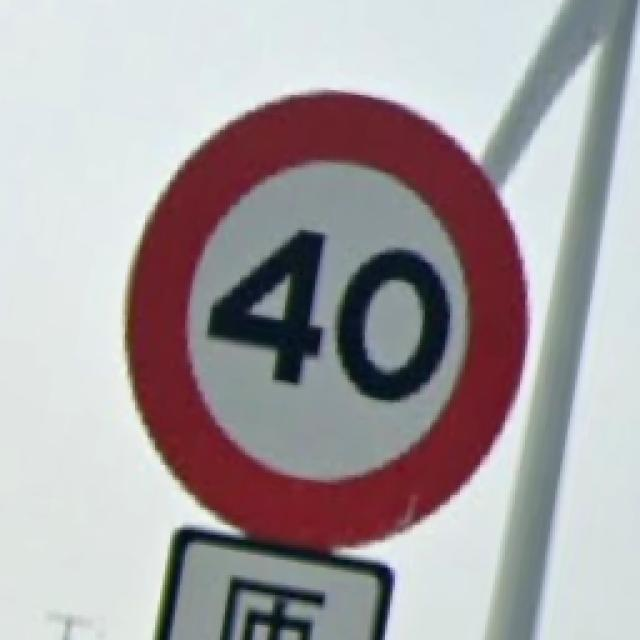Speed Limit -40-: (130, 95, 525, 542)
